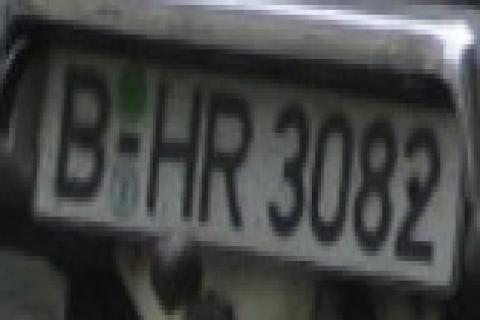LicensePlate: (38, 20, 462, 294)
